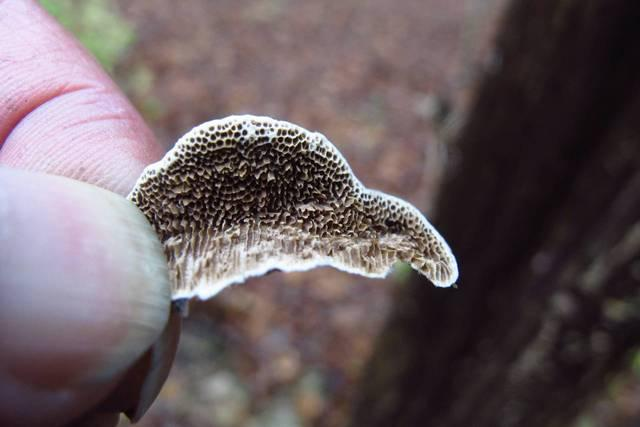poisonous_mushroom: (125, 112, 460, 315)
